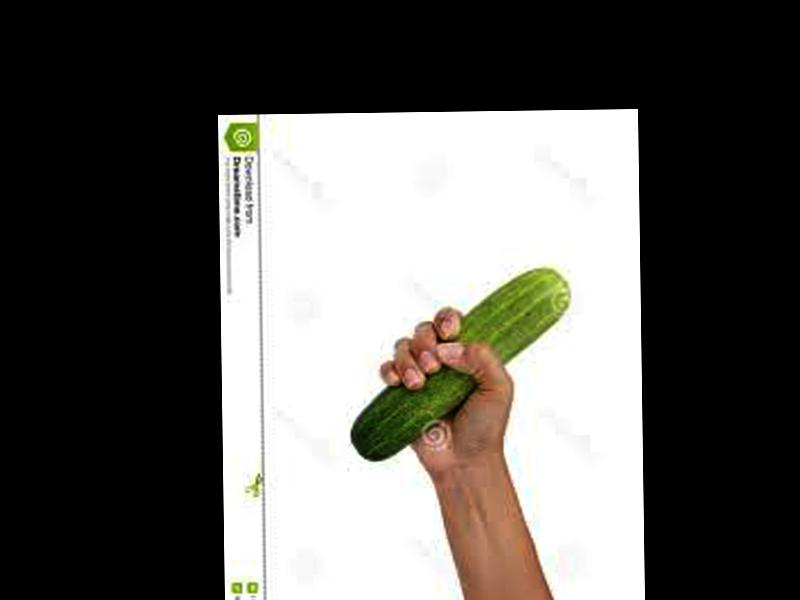Cucumber: (348, 268, 570, 466)
